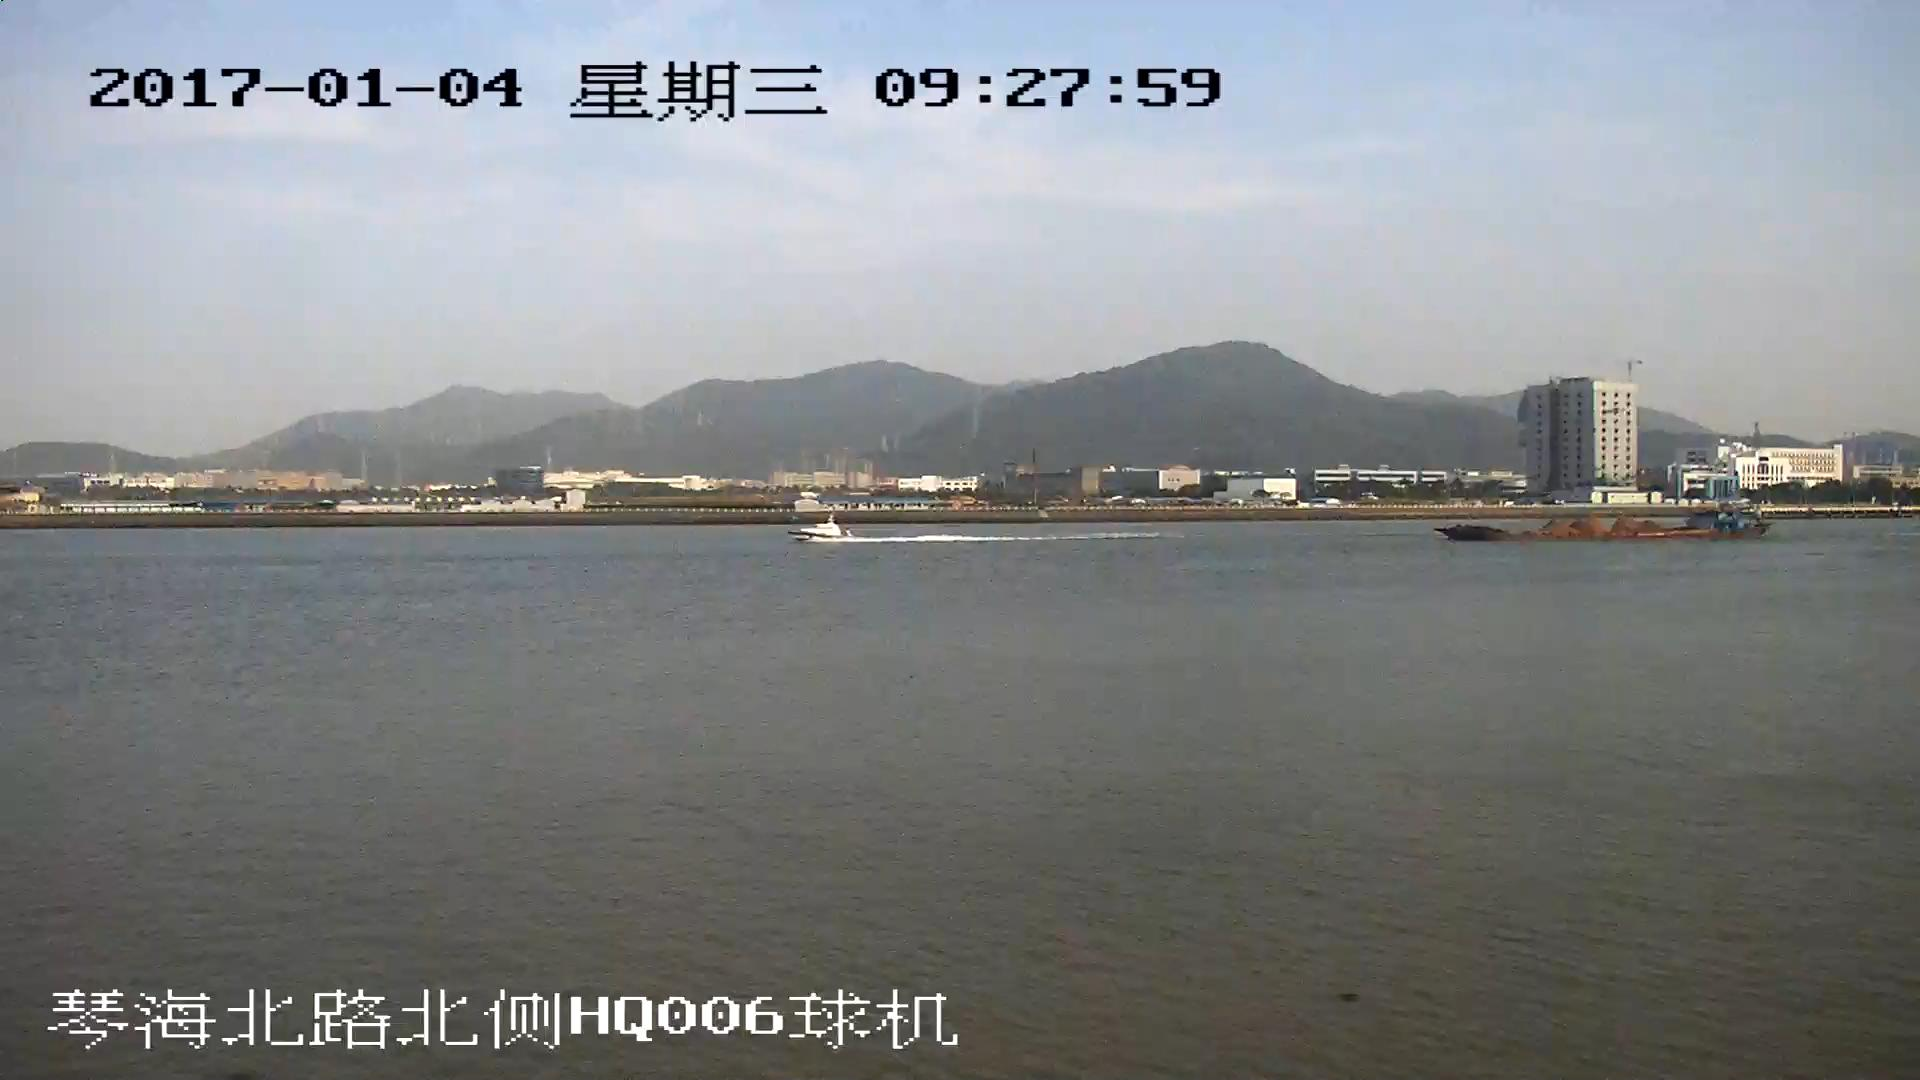ore carrier: (1442, 501, 1769, 538)
passenger ship: (798, 520, 843, 541)
